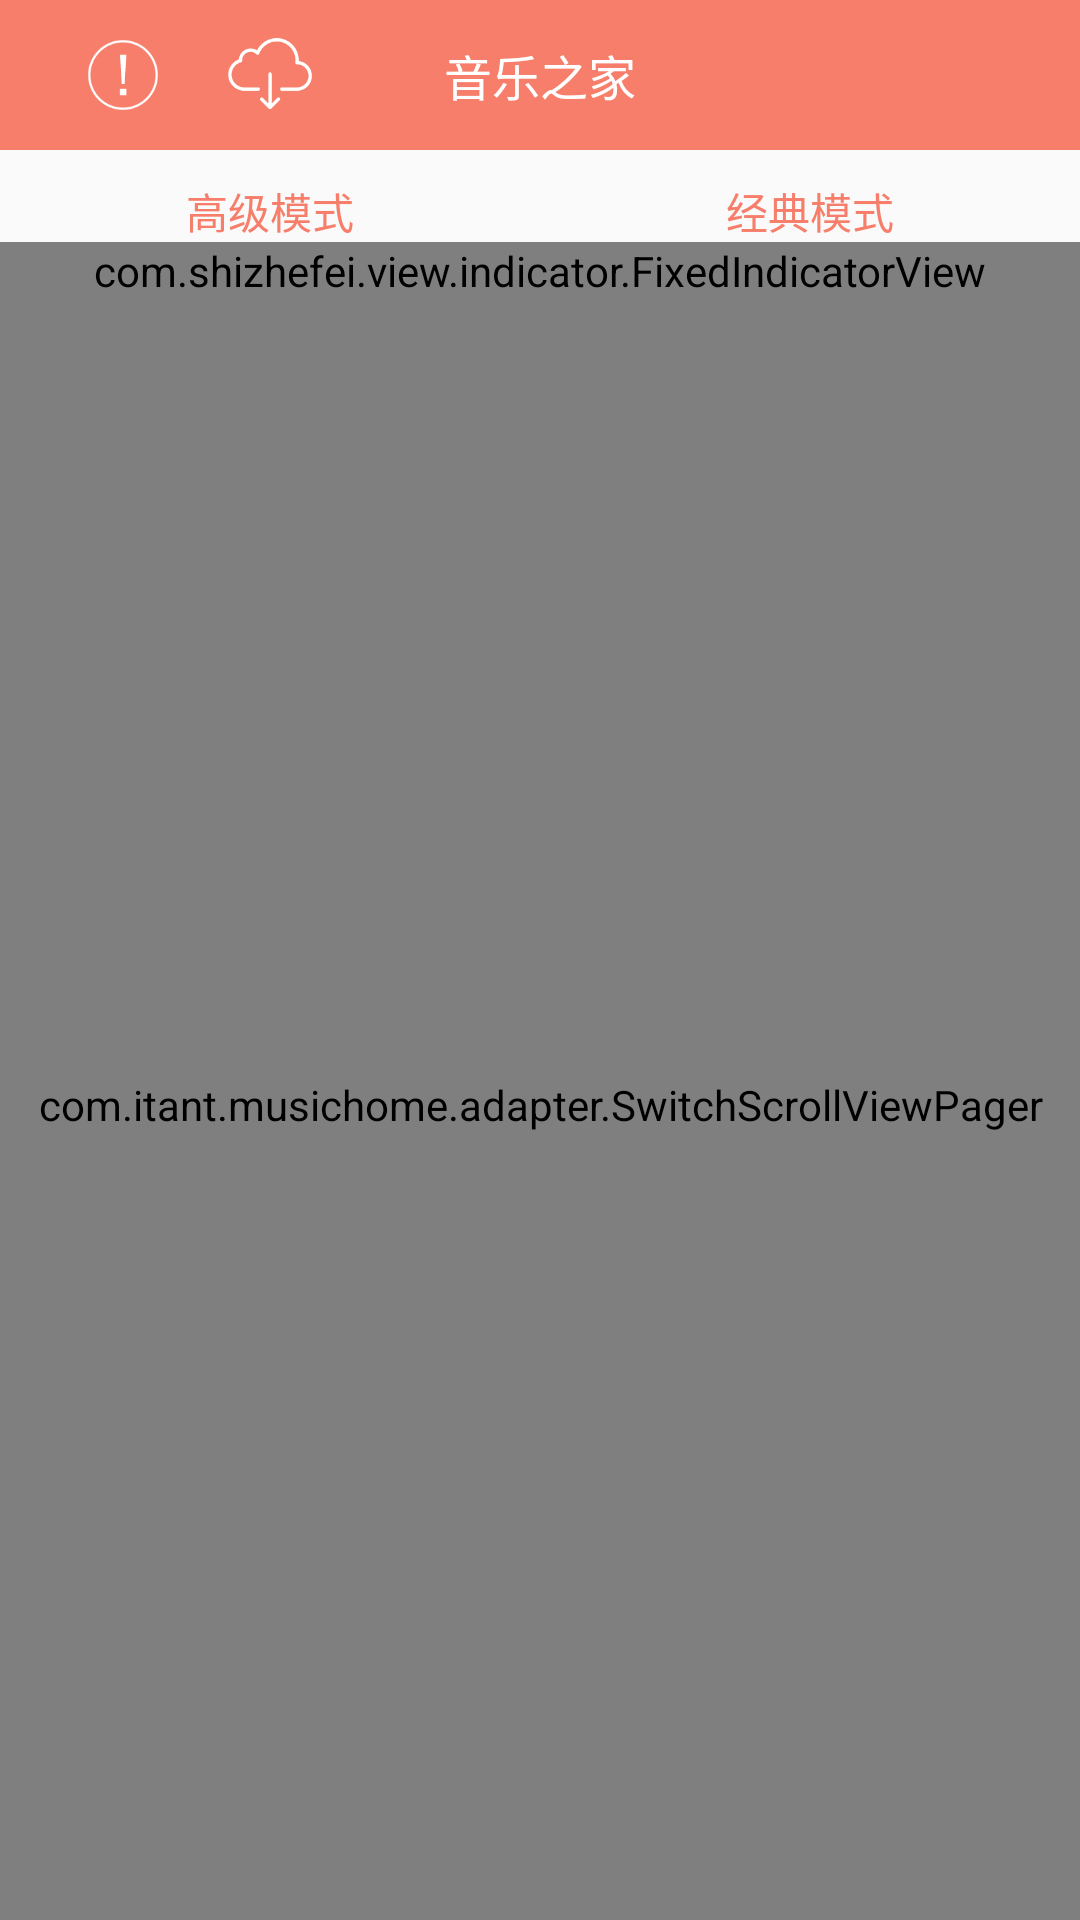

Named icons in this screenshot (1080*1920) and their bounding boxes, (x1, y1, x2, y2):
about: (88, 40, 158, 110)
download: (228, 38, 312, 109)
